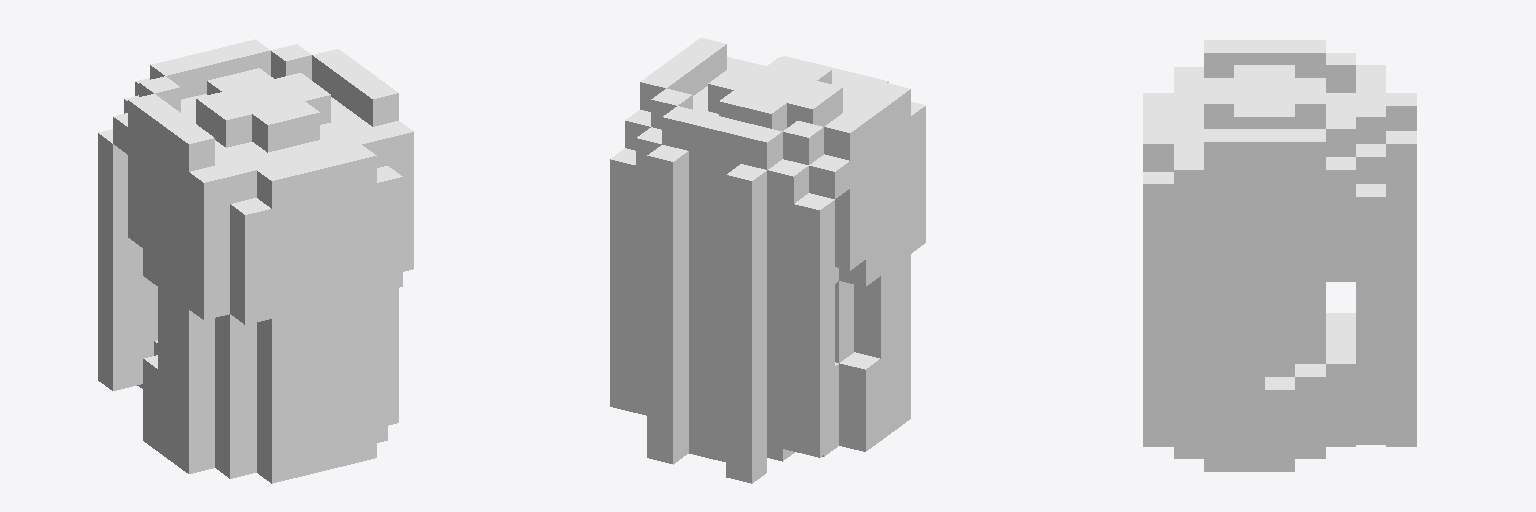
Rendered from char-60-chest_lgt_med_2a_ja_du_color.obj.
3 views of the same model, side by side, from view 1: azimuth 30°, elevation 25°; view 2: azimuth 150°, elevation 25°; view 3: azimuth 270°, elevation 25° (orthographic).
Visible parts, largest first — view 1: chest_lgt_med_2a_ja_du_color; view 2: chest_lgt_med_2a_ja_du_color; view 3: chest_lgt_med_2a_ja_du_color.
Part boxes in pixels (x1,y1,x2,y2): chest_lgt_med_2a_ja_du_color: (98,39,413,483); chest_lgt_med_2a_ja_du_color: (610,38,925,483); chest_lgt_med_2a_ja_du_color: (1143,40,1416,471).
Bounding box in the file's own units: 0.8 × 1.2 × 0.9.